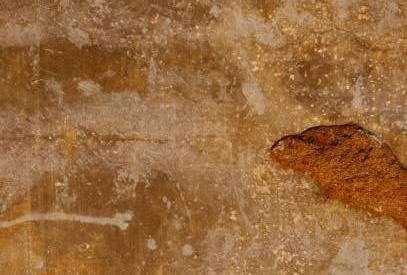Corrosion: (269, 121, 407, 231)
